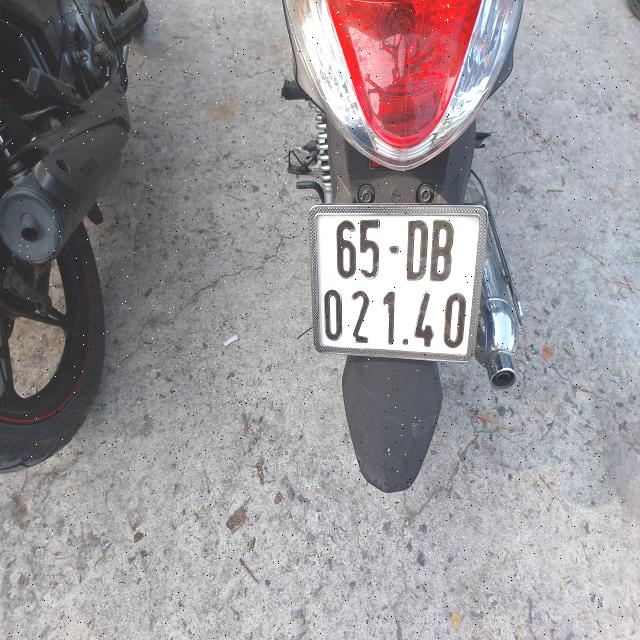0: (319, 288, 348, 342), (440, 292, 467, 348)
1: (382, 289, 399, 344)
2: (351, 289, 372, 345)
4: (412, 294, 435, 346)
5: (358, 219, 380, 287)
6: (336, 217, 358, 279)
B: (425, 218, 460, 284)
D: (401, 215, 426, 280)
